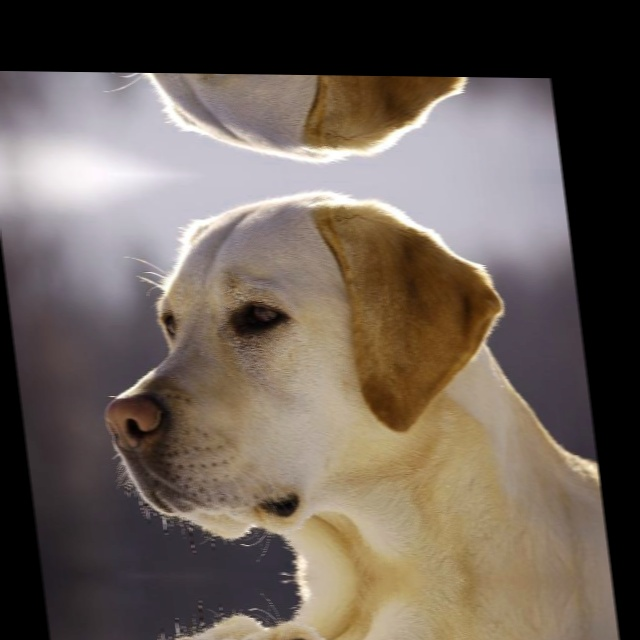dog: (71, 180, 539, 557), (57, 71, 491, 169), (122, 598, 554, 640)
